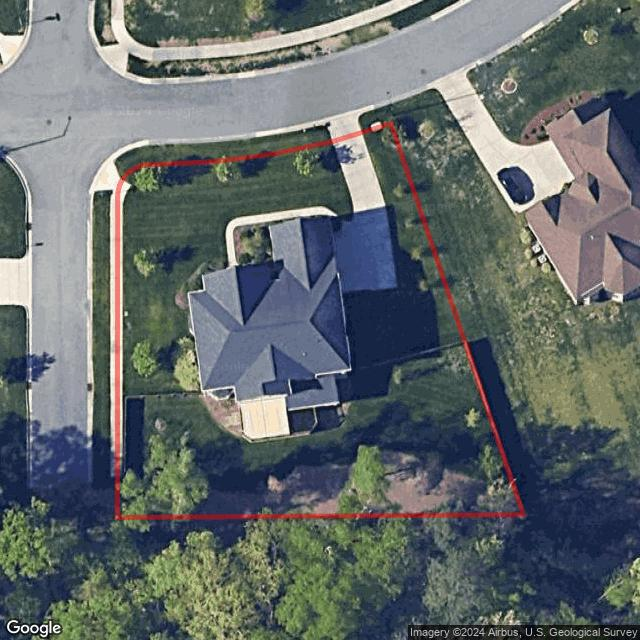Driveway: (332, 131, 398, 294), (175, 265, 216, 310)
Extra-Driveway: (325, 115, 362, 139)
Extra-Lawn: (114, 125, 332, 180), (92, 190, 111, 518), (359, 106, 393, 132)
Extra-Sidewalk: (93, 161, 123, 477), (117, 181, 131, 478)
House: (188, 217, 354, 413)
Lawn: (118, 123, 524, 519)
Other: (118, 448, 522, 517), (201, 377, 354, 443), (235, 219, 294, 264), (177, 338, 204, 394)
Sidewalk: (226, 206, 350, 265)
